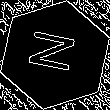N_E: (25, 30, 85, 80)
